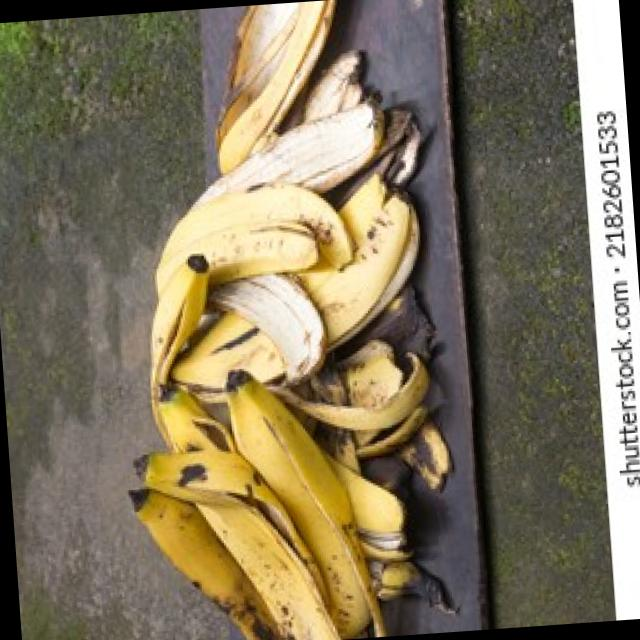banana_peel: (22, 0, 493, 640)
